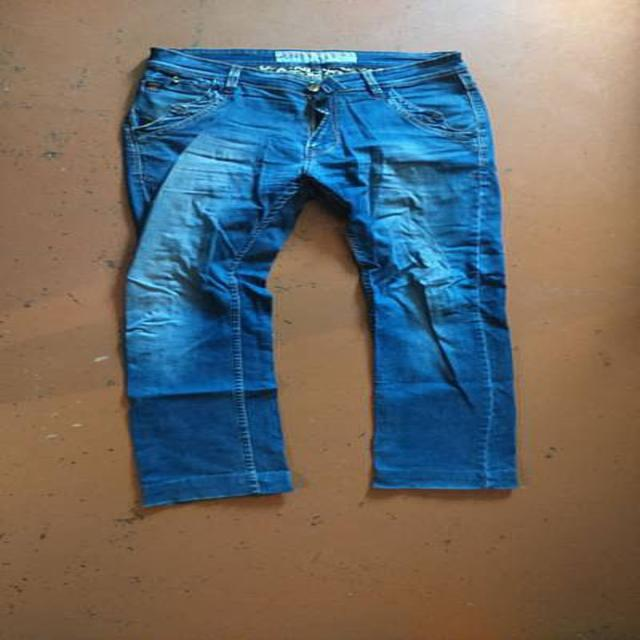TROUSER: (106, 28, 544, 515)
